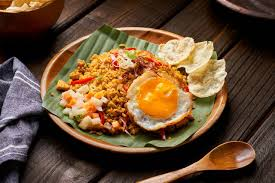Nasi goreng: (65, 48, 149, 136)
Telur ceplok: (126, 71, 191, 133)
